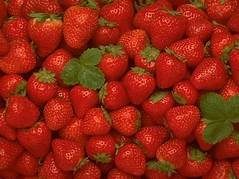Fresa: (147, 6, 190, 52), (26, 14, 67, 60), (62, 3, 100, 52), (188, 55, 230, 93), (161, 101, 202, 139), (49, 135, 87, 173), (4, 94, 43, 131), (154, 50, 188, 91), (94, 43, 130, 81), (168, 34, 207, 69), (41, 94, 75, 134), (122, 66, 156, 106), (24, 69, 58, 108), (113, 140, 148, 176), (155, 134, 189, 171), (69, 83, 101, 120), (108, 104, 142, 137), (98, 79, 132, 112), (80, 106, 114, 137)
